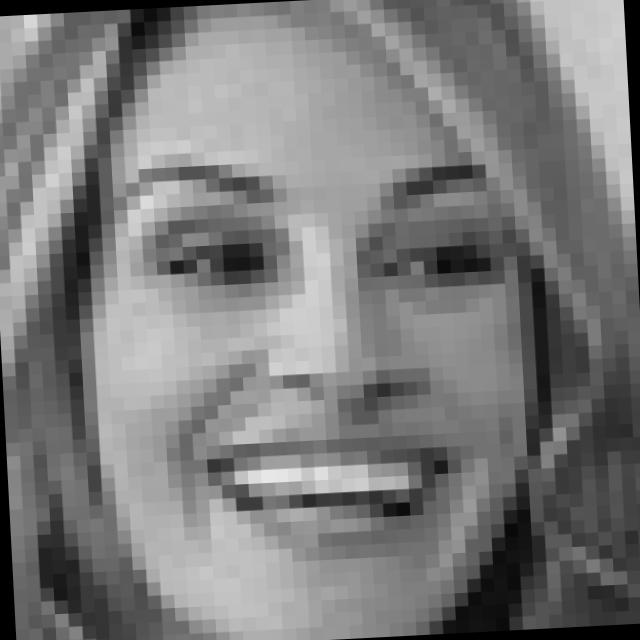happy: (88, 134, 524, 581)
